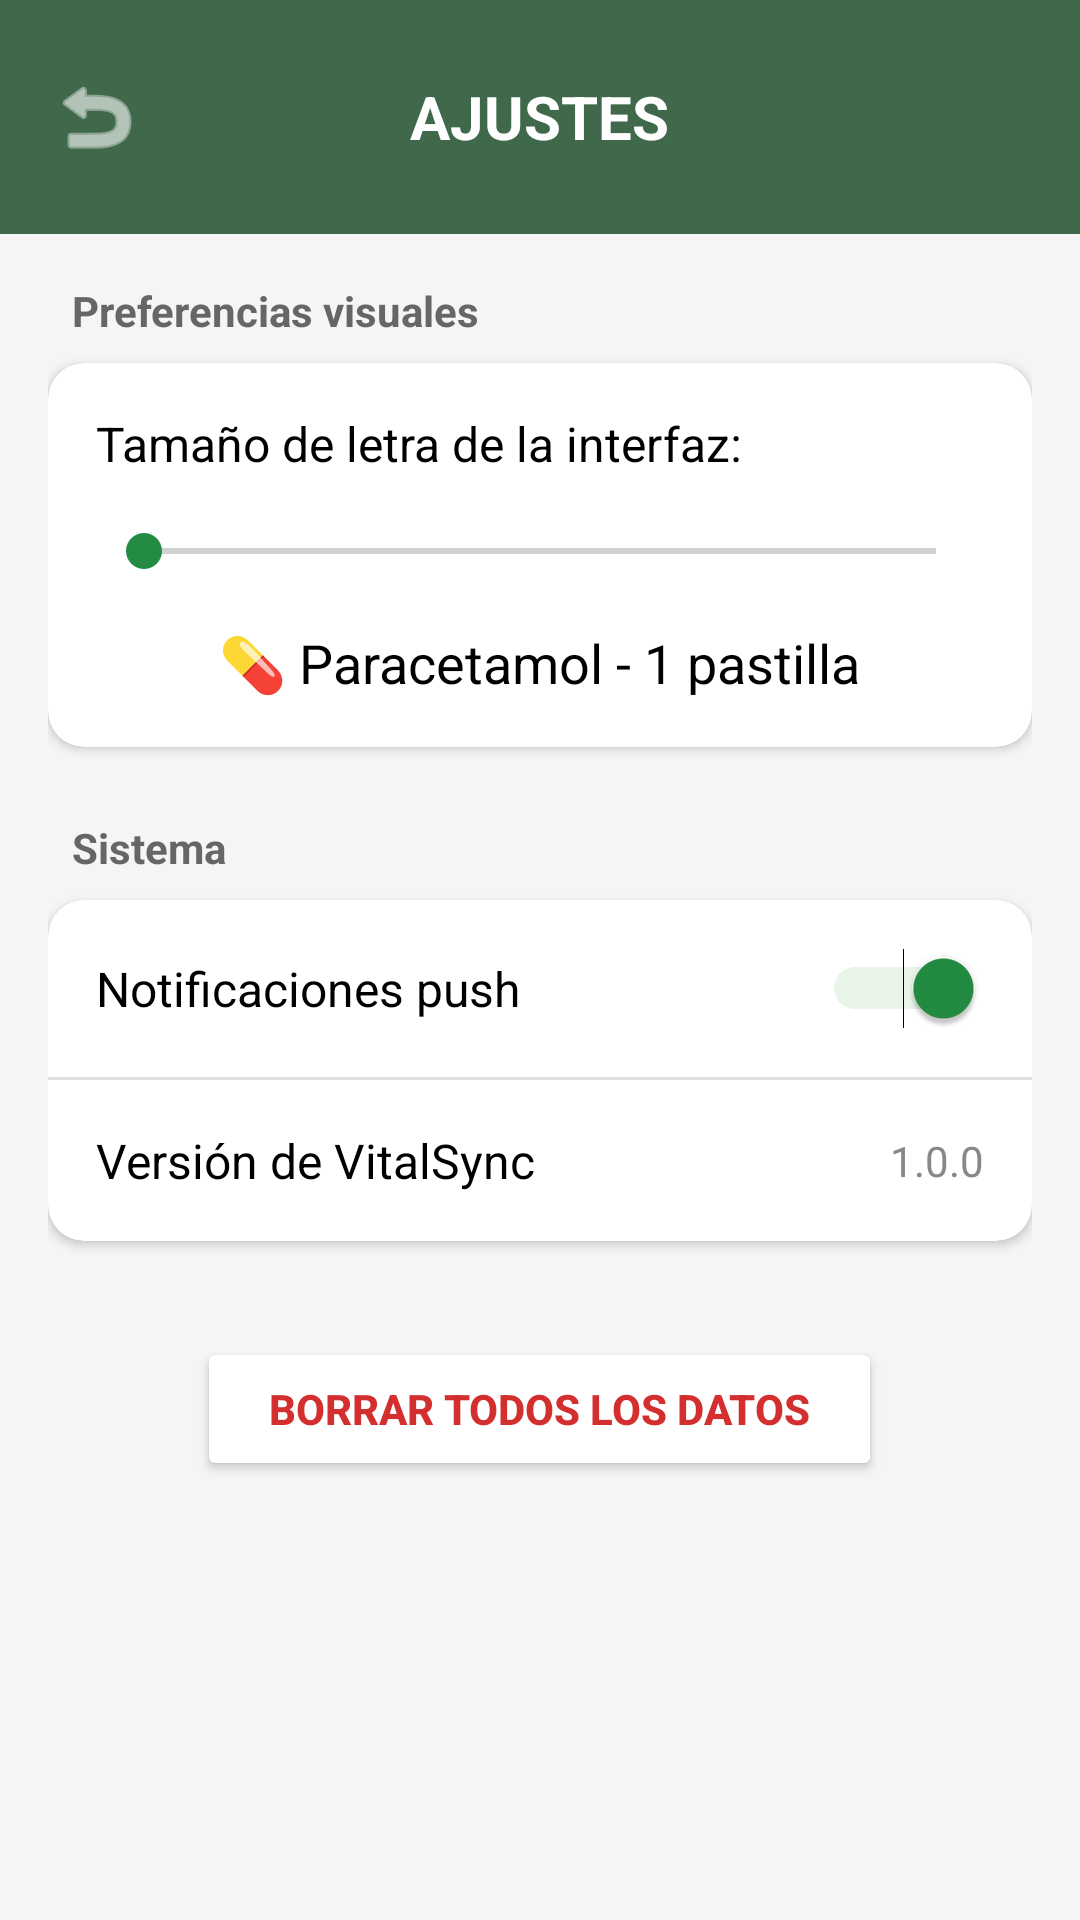

Where to tap for icons on this 1080px×1920px app screen, as point (x, y):
revert: point (97, 117)
